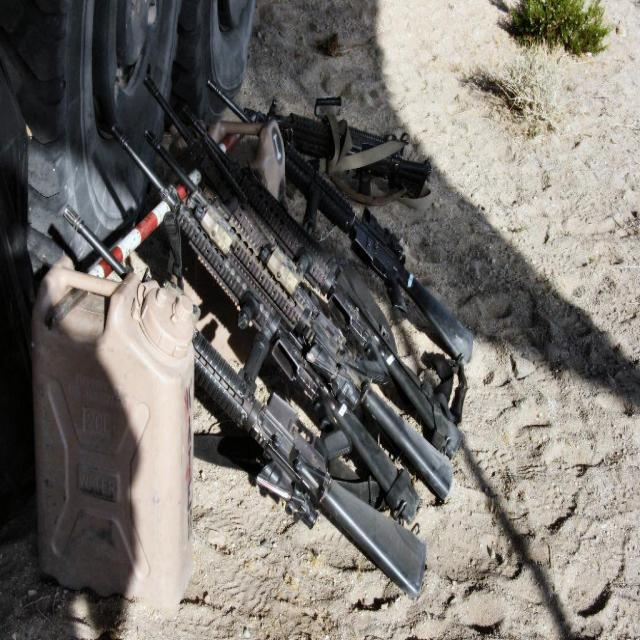weapon: (61, 206, 426, 597)
